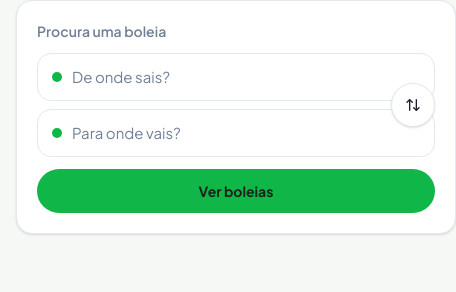
Test: LandingHeroSearchCard › valida origem e destino antes de navegar
Click the button "Ver boleias".
click(236, 191)  # box [37,169,435,213]
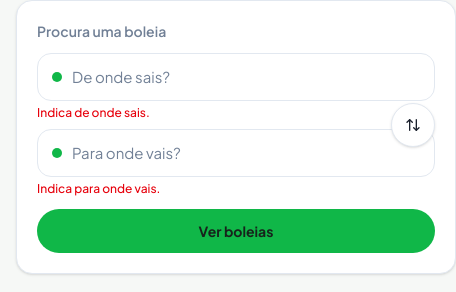
Result: the text "Indica de onde sais." is shown at [37,105,150,120]
Result: the text "Indica para onde vais." is shown at [37,181,160,196]
